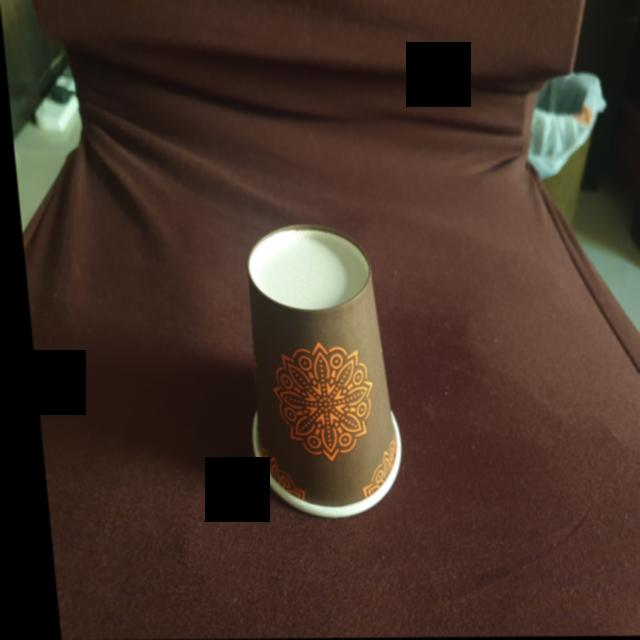cups: (223, 224, 402, 520)
